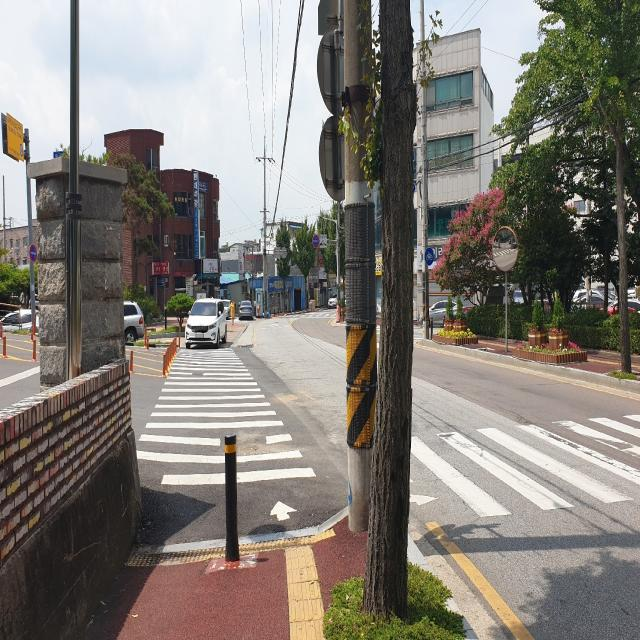횡단보도: (136, 346, 317, 523), (416, 422, 640, 511)
